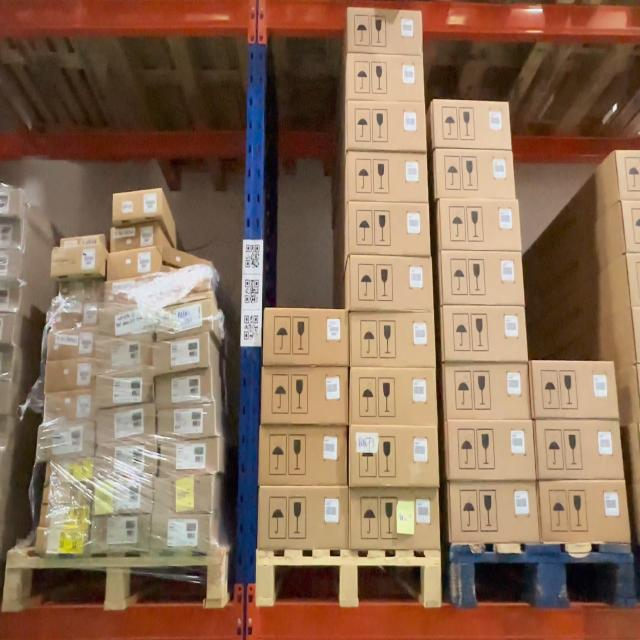box: (258, 486, 347, 549), (448, 481, 538, 542), (352, 426, 440, 487), (542, 481, 630, 542), (261, 368, 352, 426), (263, 308, 352, 367), (352, 490, 441, 548), (449, 420, 535, 480), (259, 427, 346, 485), (539, 420, 622, 479), (348, 254, 434, 310), (352, 368, 438, 424), (535, 362, 618, 420), (446, 365, 531, 421), (444, 306, 528, 361), (352, 312, 437, 366), (438, 200, 524, 253), (440, 252, 523, 305), (350, 202, 431, 255), (436, 150, 516, 200), (350, 153, 430, 203), (350, 101, 428, 150), (434, 100, 511, 149), (347, 7, 422, 55), (347, 55, 425, 101), (154, 475, 216, 514), (158, 439, 220, 477), (149, 516, 213, 550), (100, 407, 157, 444), (158, 404, 218, 439), (98, 372, 156, 408), (99, 442, 157, 478), (92, 518, 151, 553), (94, 480, 153, 515), (41, 426, 97, 462), (157, 336, 212, 372), (98, 338, 155, 372), (158, 300, 214, 334), (157, 372, 214, 405), (102, 304, 154, 338), (161, 270, 214, 301), (53, 246, 104, 277), (48, 329, 97, 360), (106, 277, 158, 306), (45, 392, 95, 422), (47, 360, 95, 391), (114, 188, 160, 220), (110, 249, 160, 278), (47, 460, 95, 490), (112, 222, 159, 251), (53, 303, 100, 330), (36, 531, 84, 555), (38, 506, 86, 529), (53, 277, 101, 300), (162, 247, 211, 269), (619, 152, 640, 200), (46, 487, 90, 508), (625, 202, 640, 251), (1, 220, 23, 248), (62, 234, 104, 248)
